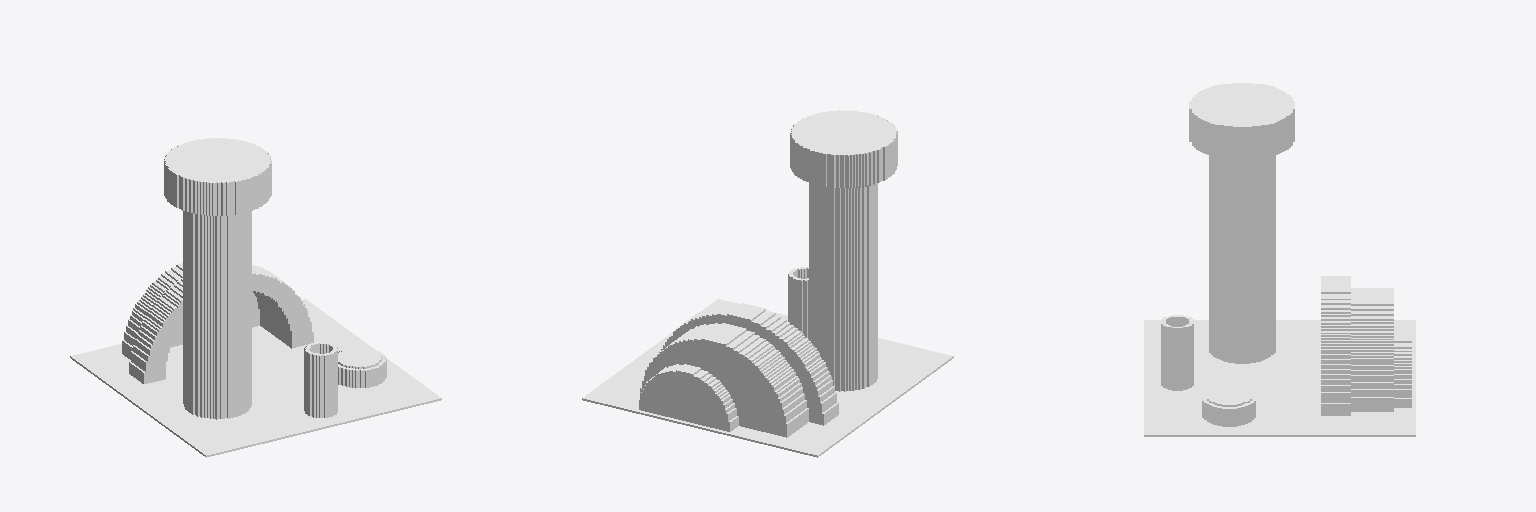
Rendered from habitat_orso_enea.obj.
3 renders of one model, left to right at view 1: azimuth 30°, elevation 25°; view 2: azimuth 150°, elevation 25°; view 3: azimuth 270°, elevation 25°, orthographic.
Bounding box in the file's own units: 126 × 126 × 126.